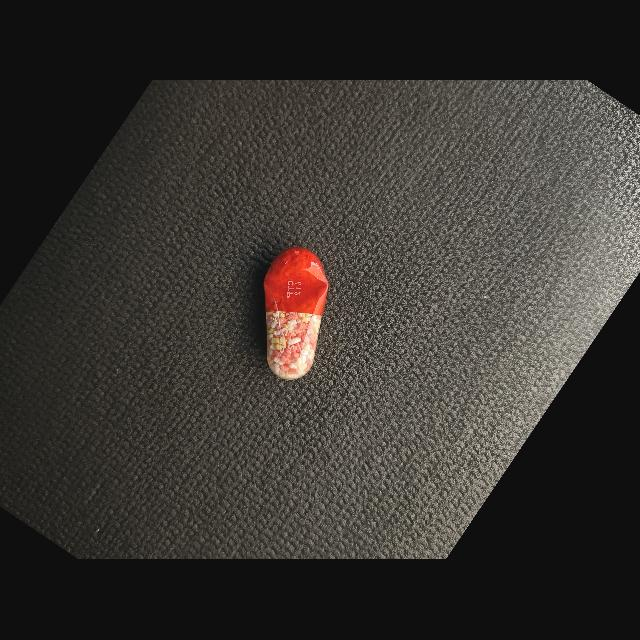Defective Capsule: (264, 248, 329, 380)
